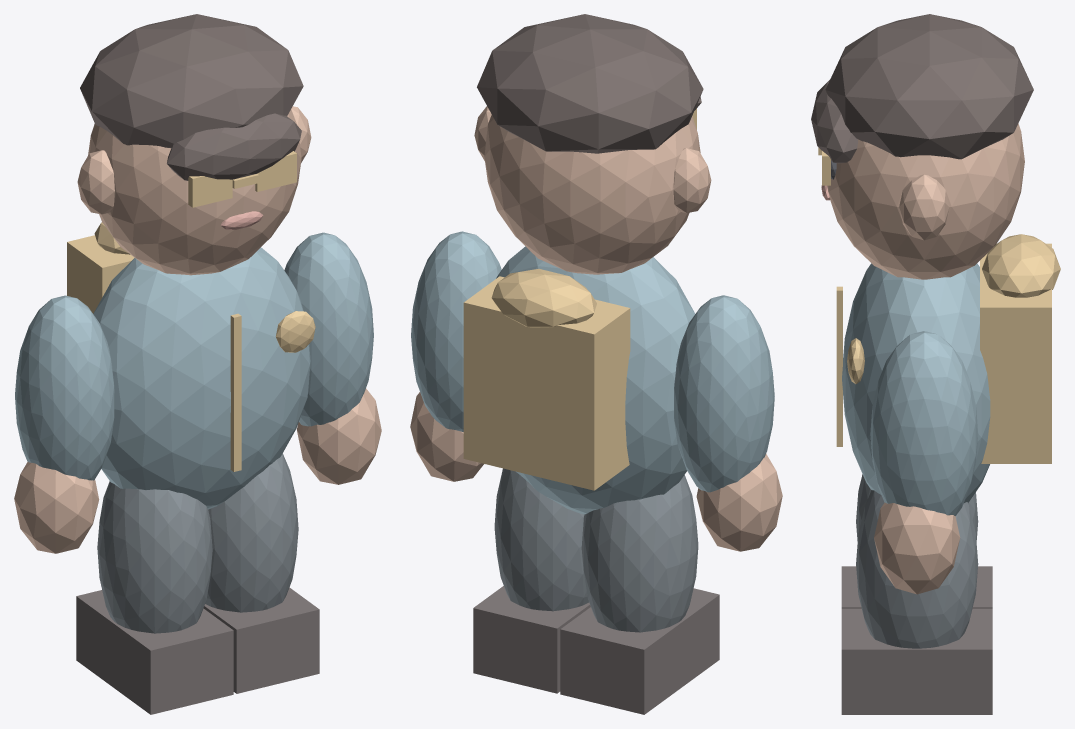
File: witness_07.glb
3 renders of one model, left to right at view 1: azimuth 30°, elevation 25°; view 2: azimuth 150°, elevation 25°; view 3: azimuth 270°, elevation 25°, orthographic.
Visible parts, largest first — view 1: torso, hair_cap, head, left_upper_arm, left_leg, left_boot, right_upper_arm, right_leg, right_boot, hair_fringe, left_hand, right_hand (+6 smaller); view 2: backpack, hair_cap, head, torso, left_upper_arm, left_leg, left_boot, right_upper_arm, right_leg, right_boot, left_hand, backpack_roll (+2 smaller); view 3: hair_cap, head, right_upper_arm, torso, right_boot, backpack, right_leg, right_hand, backpack_roll, right_ear, hair_fringe, left_boot (+3 smaller).
Boxes of the visible parts, x1,y1,x2,y2 form: torso: (93, 247, 310, 509); hair_cap: (80, 14, 303, 148); head: (88, 109, 301, 275); left_upper_arm: (15, 295, 114, 480); left_leg: (97, 481, 212, 633); left_boot: (76, 590, 233, 714); right_upper_arm: (284, 232, 373, 426); right_leg: (205, 453, 298, 612); right_boot: (203, 587, 319, 693); hair_fringe: (167, 113, 301, 180); left_hand: (14, 462, 99, 553); right_hand: (296, 388, 381, 484); backpack: (463, 276, 630, 490); hair_cap: (477, 14, 703, 153); head: (484, 115, 700, 274); torso: (496, 246, 695, 514); left_upper_arm: (674, 295, 774, 492); left_leg: (581, 475, 698, 632); left_boot: (560, 588, 719, 714); right_upper_arm: (411, 231, 501, 431); right_leg: (494, 468, 588, 611); right_boot: (473, 586, 590, 693); left_hand: (696, 454, 782, 551); backpack_roll: (491, 268, 596, 327); hair_cap: (825, 14, 1033, 159); head: (827, 123, 1024, 279); right_upper_arm: (870, 331, 978, 515); torso: (842, 263, 990, 502); right_boot: (841, 608, 992, 714); backpack: (980, 243, 1051, 463); right_leg: (856, 490, 978, 648); right_hand: (874, 502, 960, 594); backpack_roll: (982, 234, 1060, 297); right_ear: (899, 174, 949, 240); hair_fringe: (811, 80, 857, 163); left_boot: (841, 566, 992, 608).
Size of the model in its own units: 1.16 by 1.97 by 0.695.
